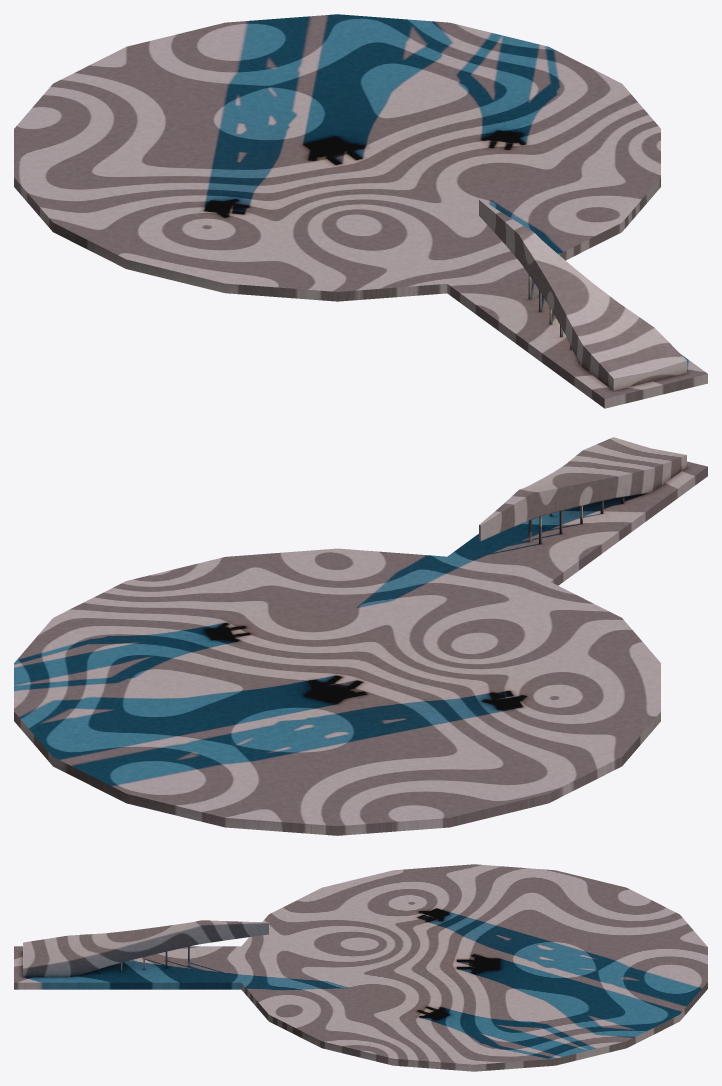
The model's file is ENT-02.glb.
3 views of the same model, one above another, from view 1: azimuth 30°, elevation 25°; view 2: azimuth 150°, elevation 25°; view 3: azimuth 270°, elevation 25° (orthographic). The views are drawn at different scales.
Visible parts, largest first — view 1: ENTRANCE.001; view 2: ENTRANCE.001; view 3: ENTRANCE.001.
Boxes of the visible parts, box(x1,y1,x2,y2) form: ENTRANCE.001: box(14, 14, 707, 408); ENTRANCE.001: box(14, 437, 707, 835); ENTRANCE.001: box(14, 864, 707, 1071).
Size of the model in its own units: 15.6 by 1.77 by 22.82.
Materials: 1 (1 with a texture image).
